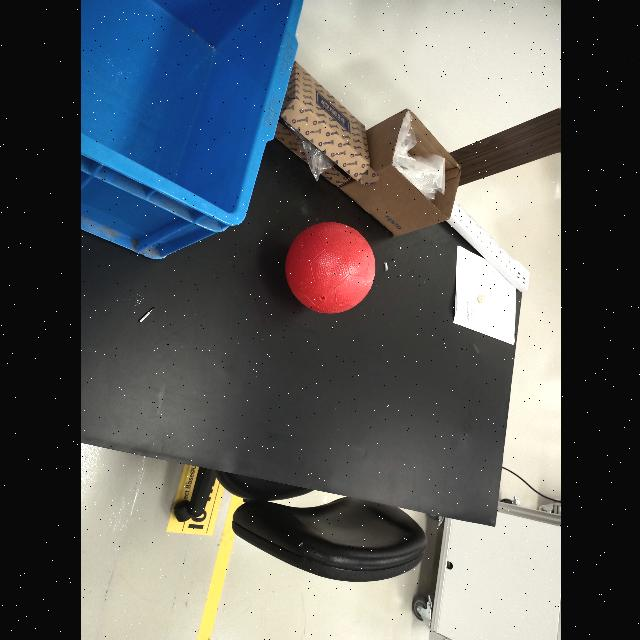R: (285, 222, 381, 316)
